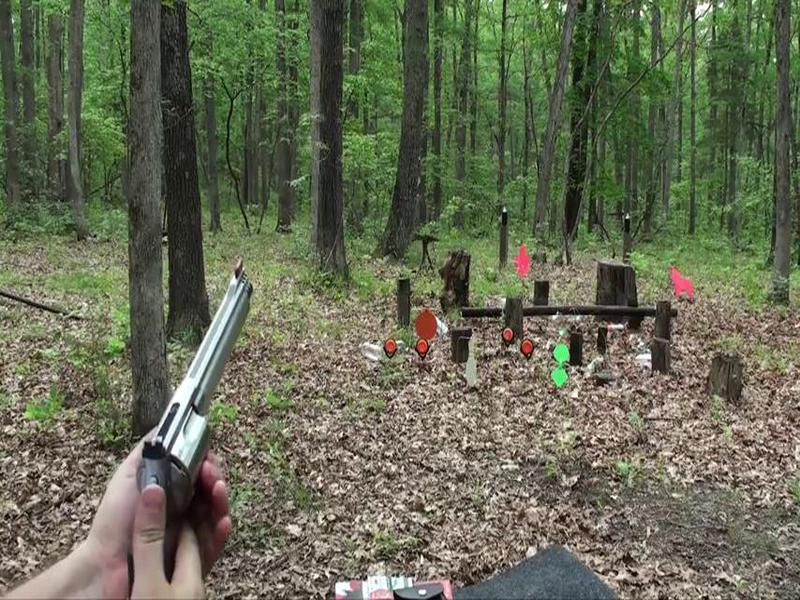Revolver: (90, 268, 261, 565)
